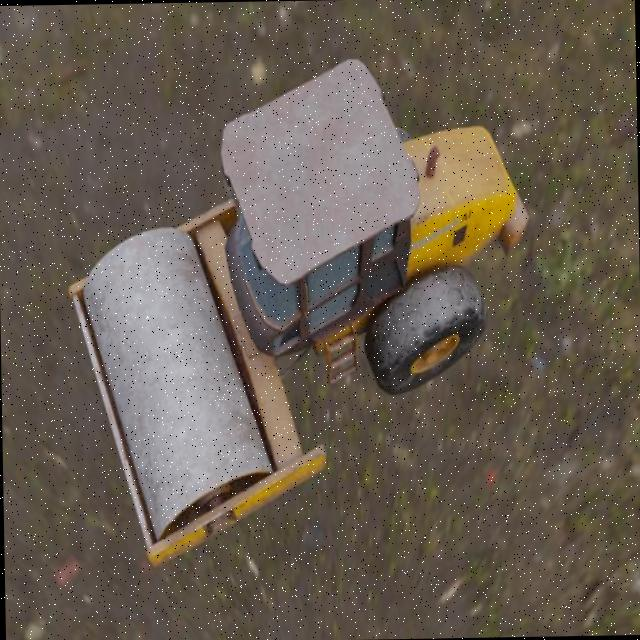Roller: (63, 54, 534, 568)
